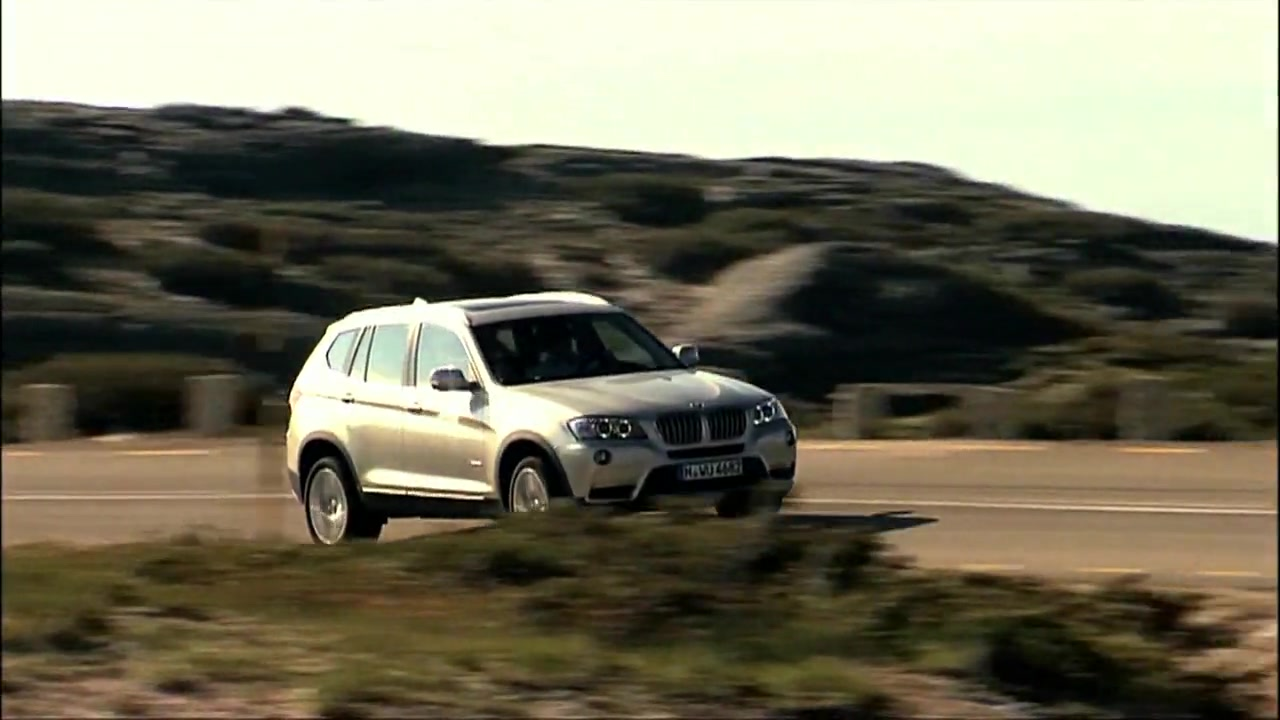car: (281, 290, 799, 549)
